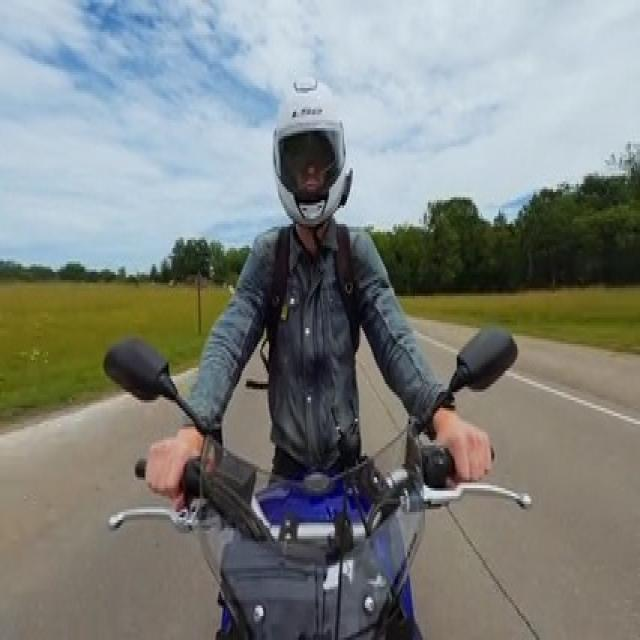Helmet_Wearer: (268, 67, 358, 228)
Person: (152, 64, 498, 495)
